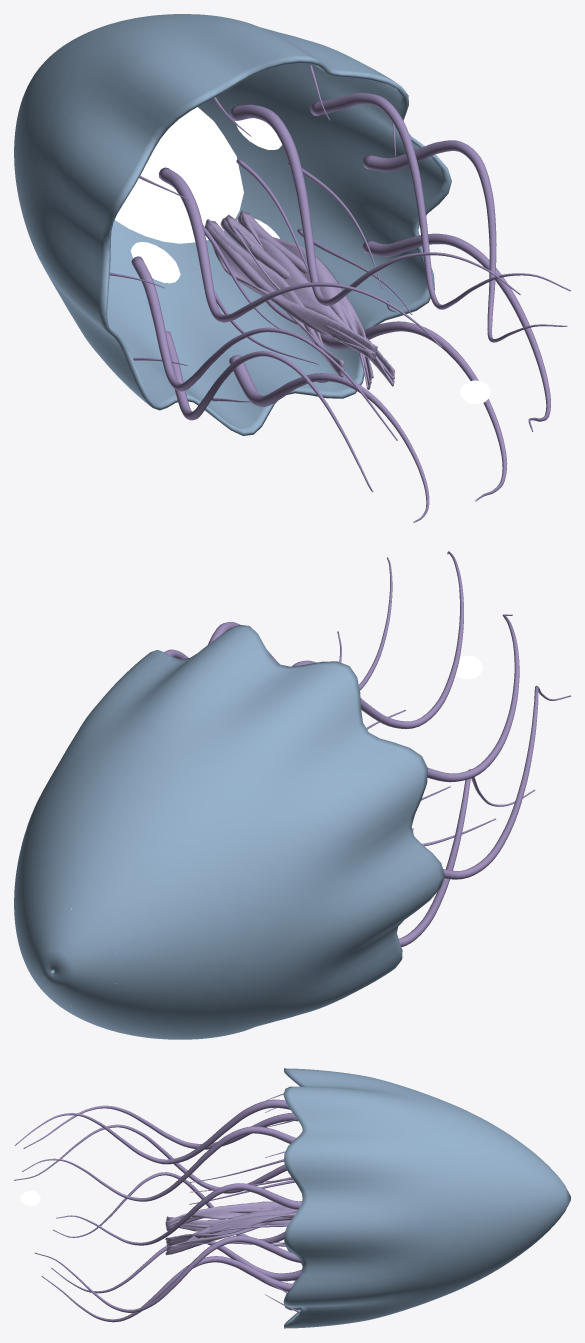
The picture shows the model from 3 angles, top to bottom: view 1: azimuth 30°, elevation 25°; view 2: azimuth 150°, elevation 25°; view 3: azimuth 270°, elevation 25°; orthographic projection. The views are drawn at different scales.
Visible parts, largest first — view 1: RIMWARD_HULL, RIMWARD_EMISSIVE; view 2: RIMWARD_HULL; view 3: RIMWARD_HULL.
Part boxes in pixels (left/top/right/bottom): RIMWARD_HULL: left=14, top=14, right=570, bottom=522; RIMWARD_EMISSIVE: left=114, top=107, right=282, bottom=283; RIMWARD_HULL: left=14, top=551, right=570, bottom=1039; RIMWARD_HULL: left=14, top=1068, right=570, bottom=1328.
Size of the model in its own units: 14.8 by 14.8 by 32.
